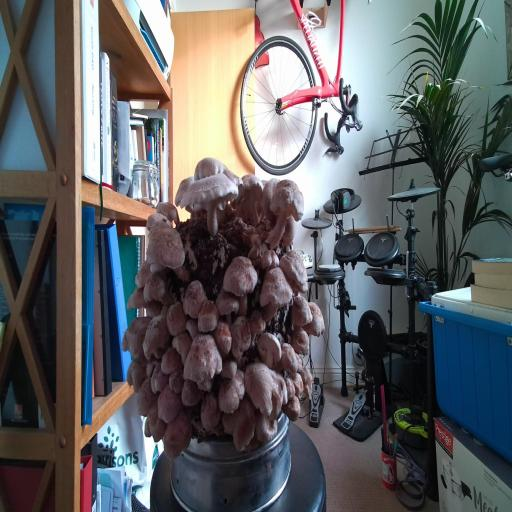Shiitake Mushroom: (239, 165, 324, 253), (172, 147, 247, 246), (225, 353, 306, 427), (169, 321, 237, 407), (208, 243, 275, 321), (132, 217, 208, 284), (240, 257, 307, 333), (146, 405, 208, 466), (203, 364, 261, 422), (271, 239, 320, 302), (219, 394, 261, 458), (188, 153, 249, 194), (172, 273, 216, 326), (205, 280, 250, 328), (134, 400, 174, 452), (118, 304, 153, 363), (135, 309, 174, 361), (125, 374, 166, 422), (251, 322, 288, 374), (151, 379, 188, 431), (191, 387, 229, 437), (118, 348, 156, 396), (163, 322, 202, 365), (225, 311, 255, 361), (237, 171, 264, 226), (142, 360, 175, 401), (249, 408, 281, 449), (286, 289, 315, 333), (210, 315, 237, 361), (168, 168, 198, 208), (150, 195, 187, 226), (302, 299, 329, 341), (128, 256, 158, 293), (242, 304, 270, 343), (163, 298, 190, 338), (143, 271, 174, 305), (157, 342, 184, 378), (260, 173, 280, 221), (272, 341, 300, 375), (278, 211, 301, 251), (280, 393, 304, 427), (197, 299, 220, 334), (298, 362, 318, 402), (258, 244, 282, 275), (143, 209, 174, 232), (288, 368, 309, 401), (181, 379, 204, 408), (141, 296, 167, 320), (182, 313, 203, 342), (125, 285, 147, 310), (167, 367, 185, 397), (281, 373, 299, 402), (292, 327, 310, 355), (248, 231, 262, 261), (220, 359, 237, 379), (295, 352, 303, 373)
